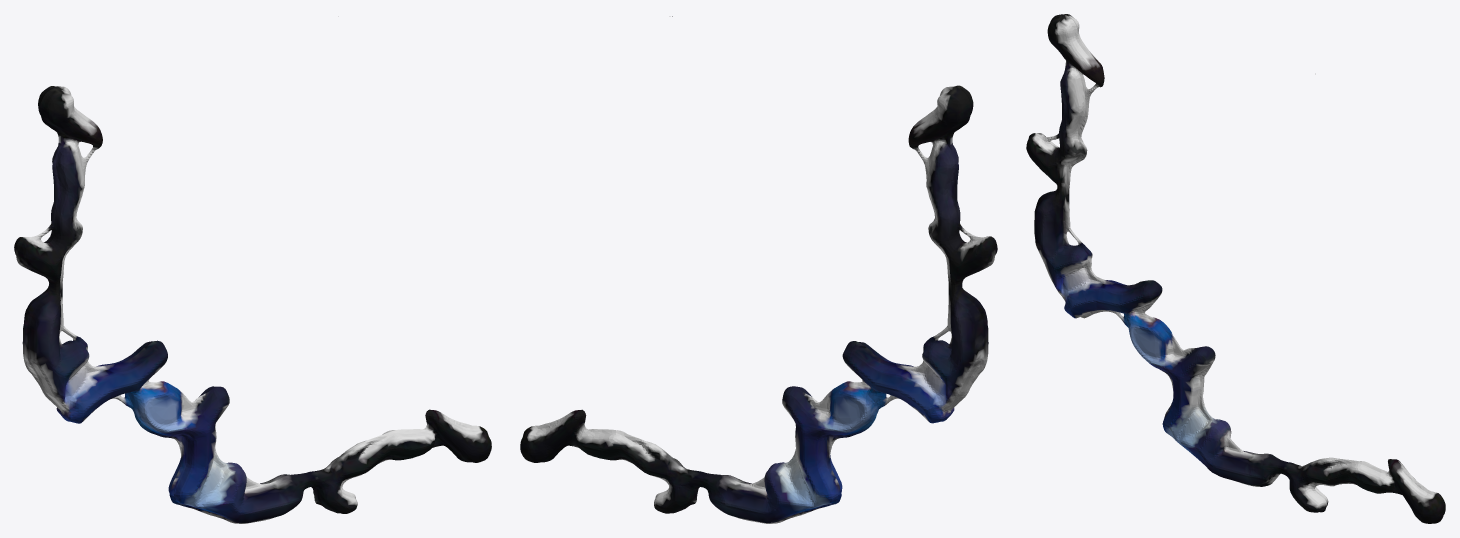
The model's file is magic_bow.glb.
3 views of the same model, side by side, from view 1: azimuth 30°, elevation 25°; view 2: azimuth 150°, elevation 25°; view 3: azimuth 330°, elevation 25° (orthographic). The views are drawn at different scales.
Visible parts, largest first — view 1: geometry_0; view 2: geometry_0; view 3: geometry_0.
Boxes of the visible parts, box(x1,y1,x2,y2) form: geometry_0: box(14, 86, 491, 523); geometry_0: box(520, 16, 997, 523); geometry_0: box(1026, 14, 1445, 523).
Size of the model in its own units: 0.9012 by 0.9062 by 0.0723.
